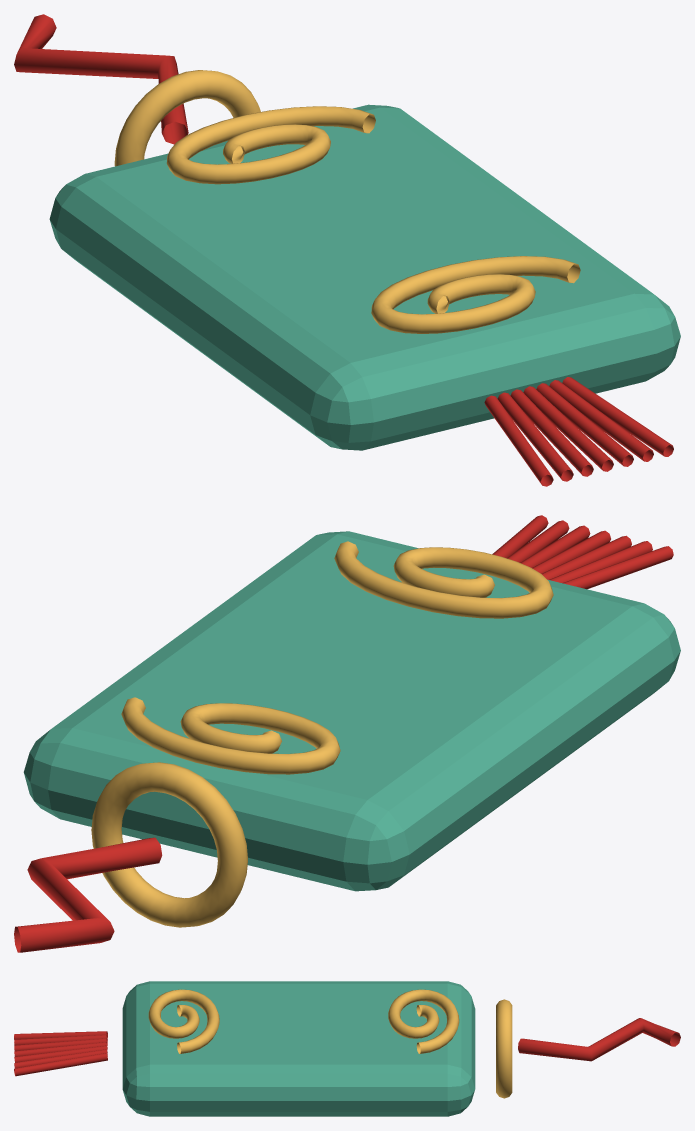
Rendered from prop-jade-plaque.glb.
3 renders of one model, top to bottom at view 1: azimuth 30°, elevation 25°; view 2: azimuth 150°, elevation 25°; view 3: azimuth 270°, elevation 25°, orthographic. The views are drawn at different scales.
Parts seen in each view (by area): view 1: prop-jade-plaque; view 2: prop-jade-plaque; view 3: prop-jade-plaque.
Boxes of the visible parts, x1,y1,x2,y2 form: prop-jade-plaque: (14, 14, 680, 486); prop-jade-plaque: (14, 515, 680, 952); prop-jade-plaque: (14, 981, 680, 1116).
Bounding box in the file's own units: 0.72 × 0.29 × 1.95.
